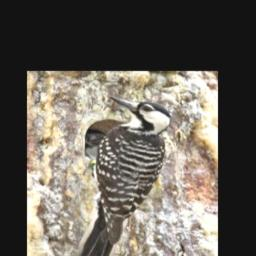Woodpecker: (75, 95, 172, 256)
